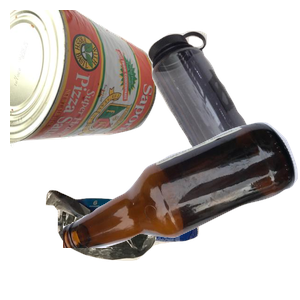glass: (63, 120, 300, 300)
metal: (10, 10, 159, 152)
plastic: (145, 28, 300, 192)
trash: (43, 187, 234, 300)
